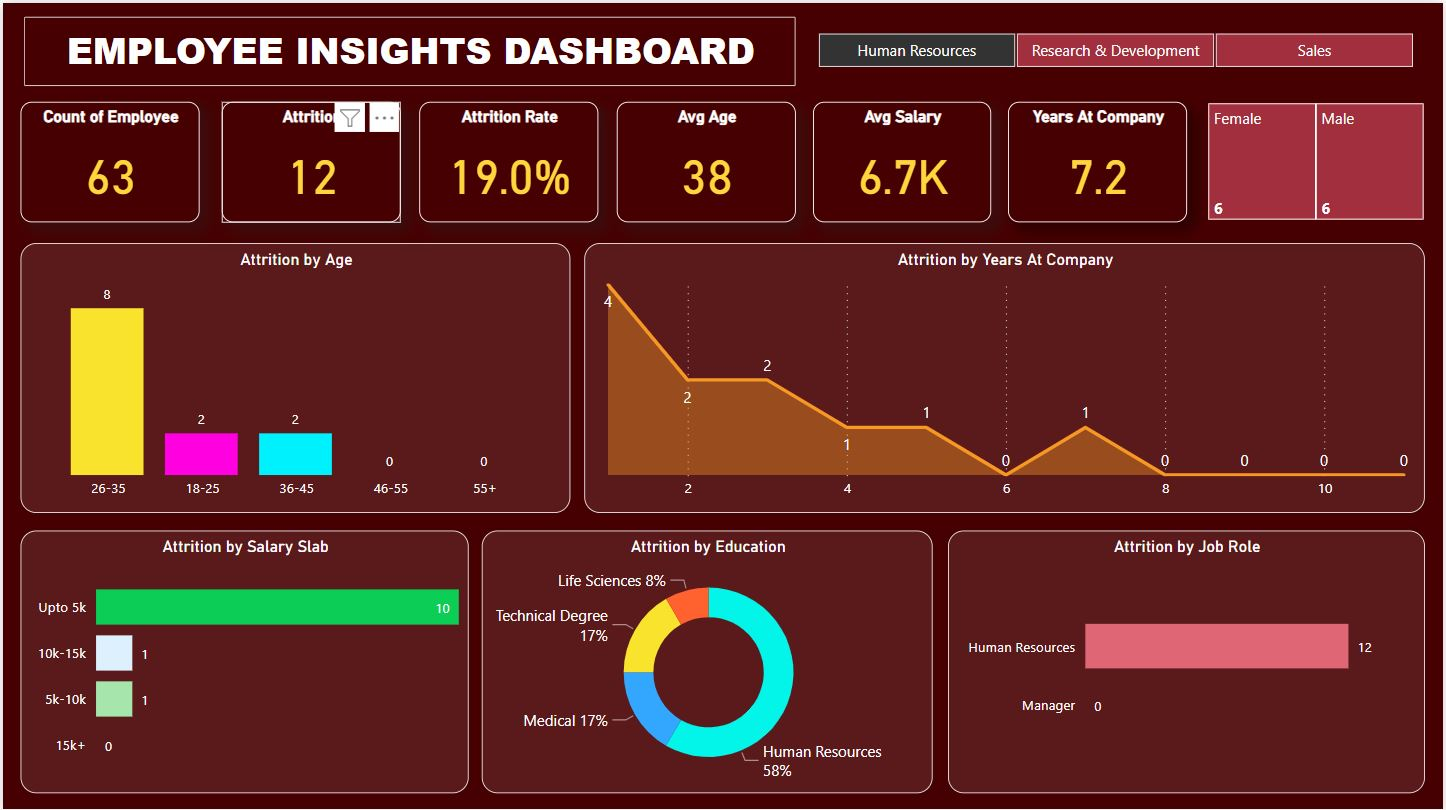

This screenshot's page, from the dashboard's own definition file:
{"tool":"powerbi","page":{"name":"Page 1","canvas":[1280,720],"ordinal":0},"visuals":[{"type":"card","title":"Count of Employee","fields":{"Values":["CountNonNull(HR_Analytics.EmpID)"]},"box":[15.5,88.1,159.5,107.1],"z":0},{"type":"card","title":"Attrition","fields":{"Values":["Sum(HR_Analytics.AttritionCount)"]},"box":[194,88.1,159.5,107.1],"z":1000},{"type":"card","title":"Attrition Rate","fields":{"Values":["HR_Analytics.AttritionRate"]},"box":[370.1,88.1,159.5,107.1],"z":2000},{"type":"card","title":"Avg Age","fields":{"Values":["Avg(HR_Analytics.Age)"]},"box":[545.1,88.1,159.5,107.1],"z":3000},{"type":"card","title":"Avg Salary","fields":{"Values":["Avg(HR_Analytics.MonthlyIncome)"]},"box":[720,88.1,158.3,107.1],"z":4000},{"type":"card","title":"Years At Company","fields":{"Values":["Avg(HR_Analytics.YearsAtCompany)"]},"box":[893.8,88.1,159.5,107.1],"z":5000},{"type":"donutChart","title":"Attrition by Education","fields":{"Category":["HR_Analytics.EducationField"],"Y":["Sum(HR_Analytics.AttritionCount)"]},"box":[426,468.9,401.1,233.3],"z":6000},{"type":"clusteredColumnChart","title":"Attrition by Age","fields":{"Category":["HR_Analytics.AgeGroup"],"Y":["Sum(HR_Analytics.AttritionCount)"]},"box":[15.5,213,489.1,240.4],"z":7000},{"type":"barChart","title":"Attrition by Salary Slab","fields":{"Category":["HR_Analytics.SalarySlab"],"Y":["Sum(HR_Analytics.AttritionCount)"]},"box":[15.5,468.9,398.7,233.3],"z":8000},{"type":"barChart","title":"Attrition by Job Role","fields":{"Y":["Sum(HR_Analytics.AttritionCount)"],"Category":["HR_Analytics.JobRole"]},"box":[840.2,468.9,423.7,233.3],"z":9000},{"type":"areaChart","title":"Attrition by Years At Company","fields":{"Y":["Sum(HR_Analytics.AttritionCount)"],"Category":["HR_Analytics.YearsAtCompany"]},"box":[516.5,213,747.4,240.4],"z":10000},{"type":"treemap","title":"Attrition by Gender","fields":{"Group":["HR_Analytics.Gender"],"Values":["Sum(HR_Analytics.AttritionCount)"]},"box":[1066.3,84.5,201.1,113.1],"z":11000},{"type":"slicer","fields":{"Values":["HR_Analytics.Department"]},"box":[698.6,20.2,578.4,44],"z":12000},{"type":"textbox","box":[19,11.9,685.5,61.9],"z":13000}]}

Visuals, with their boxes in screenshot pixels (x1, y1, x2, y2), scaled from the page's 1280x720 canvas onto the 1446x810 screenshot:
"Count of Employee" card: (18, 99, 198, 220)
"Attrition" card: (219, 99, 399, 220)
"Attrition Rate" card: (418, 99, 598, 220)
"Avg Age" card: (616, 99, 796, 220)
"Avg Salary" card: (813, 99, 992, 220)
"Years At Company" card: (1010, 99, 1190, 220)
"Attrition by Education" donutChart: (481, 528, 934, 790)
"Attrition by Age" clusteredColumnChart: (18, 240, 570, 510)
"Attrition by Salary Slab" barChart: (18, 528, 468, 790)
"Attrition by Job Role" barChart: (949, 528, 1428, 790)
"Attrition by Years At Company" areaChart: (583, 240, 1428, 510)
"Attrition by Gender" treemap: (1205, 95, 1432, 222)
slicer - HR_Analytics.Department: (789, 23, 1443, 72)
textbox: (21, 13, 796, 83)
